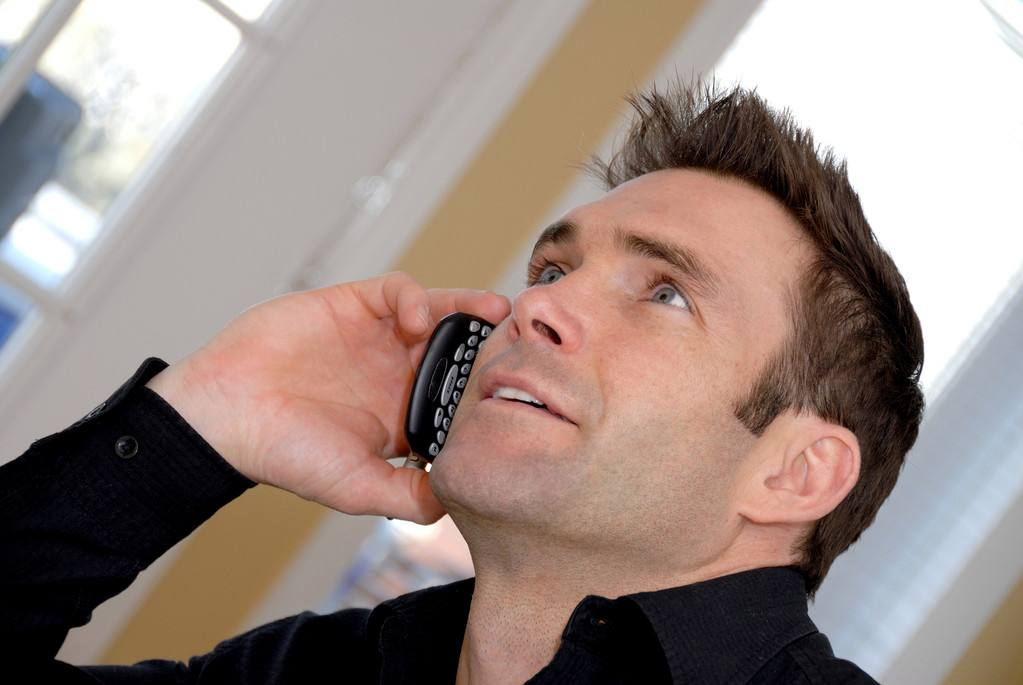calling: (199, 259, 510, 530)
